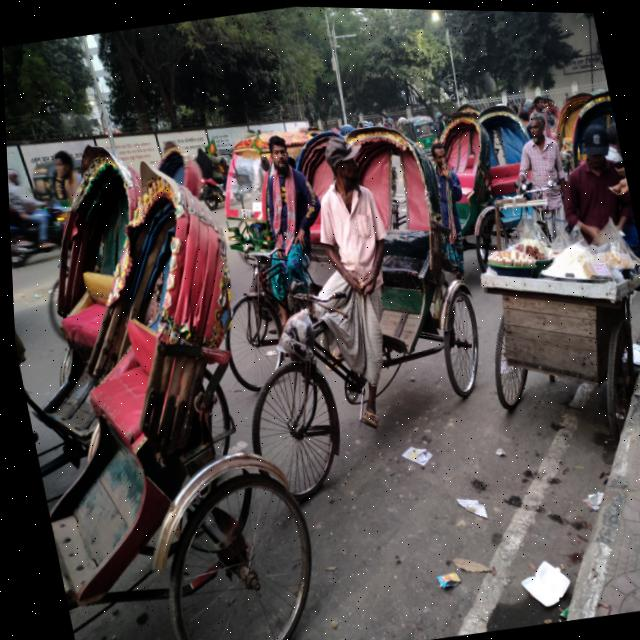rikshaw: (5, 156, 300, 640), (181, 122, 495, 506)
